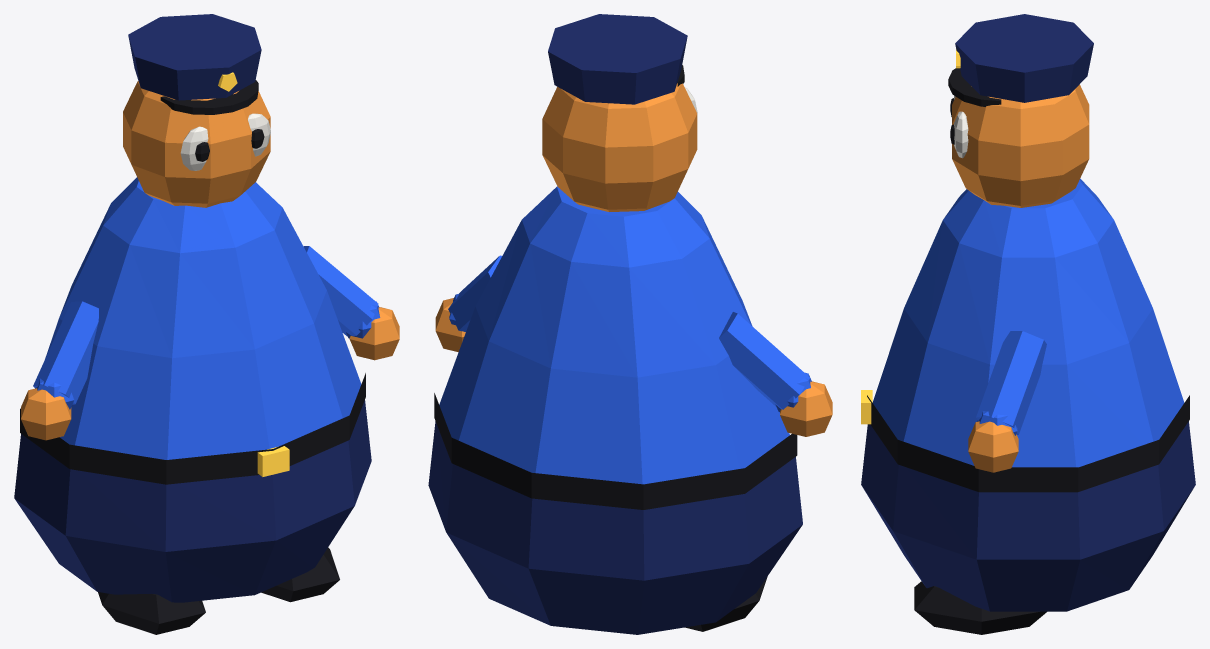
The model's file is cop_1.glb.
The picture shows the model from 3 angles, left to right: view 1: azimuth 30°, elevation 25°; view 2: azimuth 150°, elevation 25°; view 3: azimuth 270°, elevation 25°; orthographic projection. The views are drawn at different scales.
Parts seen in each view (by area): view 1: body_shirt, body_pants, head_skin_naranja, cap_cap, body_black, arms_shirt, legs_black, arms_skin_naranja, cap_black, face_white, body_gold; view 2: body_shirt, body_pants, head_skin_naranja, cap_cap, body_black, arms_shirt, arms_skin_naranja, legs_black; view 3: body_shirt, body_pants, head_skin_naranja, cap_cap, body_black, arms_shirt, legs_black, arms_skin_naranja, cap_black, face_white.
Boxes of the visible parts, <box> form: body_shirt: <box>45,177,361,459</box>; body_pants: <box>14,400,371,602</box>; head_skin_naranja: <box>123,81,270,207</box>; cap_cap: <box>128,14,261,100</box>; body_black: <box>20,373,365,484</box>; arms_shirt: <box>33,246,380,409</box>; legs_black: <box>98,547,339,634</box>; arms_skin_naranja: <box>21,307,399,440</box>; cap_black: <box>160,80,258,114</box>; face_white: <box>180,113,270,170</box>; body_gold: <box>257,446,289,476</box>; body_shirt: <box>439,186,789,484</box>; body_pants: <box>428,421,802,634</box>; head_skin_naranja: <box>542,83,697,211</box>; cap_cap: <box>548,14,687,104</box>; body_black: <box>434,393,797,509</box>; arms_shirt: <box>448,255,811,411</box>; arms_skin_naranja: <box>435,298,832,436</box>; legs_black: <box>684,576,767,631</box>; body_shirt: <box>872,178,1184,467</box>; body_pants: <box>861,421,1195,611</box>; head_skin_naranja: <box>952,84,1089,207</box>; cap_cap: <box>955,14,1093,102</box>; body_black: <box>867,395,1189,492</box>; arms_shirt: <box>976,331,1046,435</box>; legs_black: <box>914,581,1046,634</box>; arms_skin_naranja: <box>968,421,1018,472</box>; cap_black: <box>948,68,1001,106</box>; face_white: <box>954,96,968,158</box>.
Bounding box in the file's own units: 1.13 × 1.56 × 0.86.
